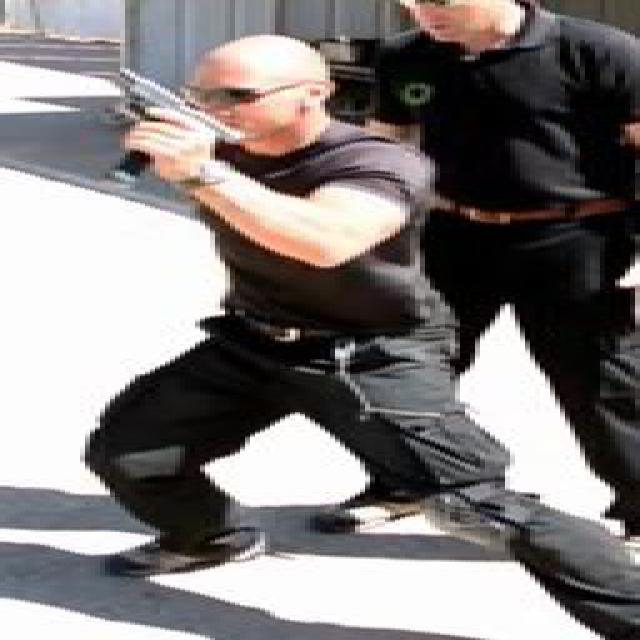Gun: (100, 66, 245, 180)
